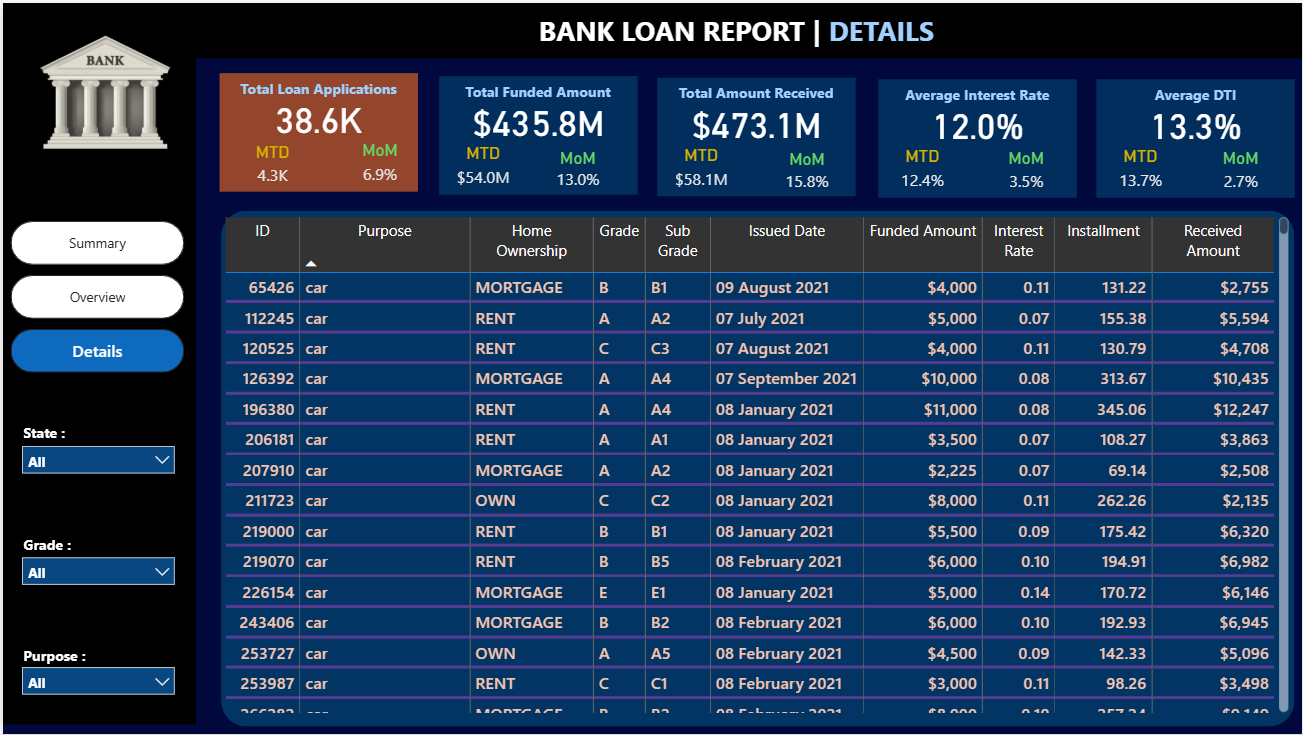

The dashboard page shown, as its layout file describes it:
{"tool":"powerbi","page":{"name":"Details","canvas":[1280,720],"ordinal":2},"visuals":[{"type":"textbox","title":"Total Loan Applications","box":[213.6,69.7,195.1,116.7],"z":0,"group":"g1"},{"type":"textbox","title":"Total Loan Applications","box":[429.3,72.3,195.1,116.7],"z":0,"group":"g2"},{"type":"textbox","title":"Total Loan Applications","box":[644.5,73.3,195.1,116.7],"z":0,"group":"g3"},{"type":"textbox","title":"Total Loan Applications","box":[1076.7,75.6,195.1,116.7],"z":0,"group":"g5"},{"type":"textbox","title":"Total Loan Applications","box":[861.4,75.8,195.1,116.7],"z":0,"group":"g4"},{"type":"shape","box":[214.3,204.7,1057,508.5],"z":0},{"type":"shape","box":[0,0,1279.3,54.4],"z":1000},{"type":"card","fields":{"Values":["financial_loan.Total Loan Application"]},"box":[213.6,87.3,195.1,51.2],"z":1000,"group":"g1"},{"type":"card","fields":{"Values":["financial_loan.Total Funded Amount"]},"box":[429.3,89.9,195.1,51.2],"z":1000,"group":"g2"},{"type":"card","fields":{"Values":["financial_loan.Total Amount"]},"box":[644.5,90.9,195.1,51.2],"z":1000,"group":"g3"},{"type":"card","fields":{"Values":["financial_loan.Average DTI"]},"box":[1076.7,93.2,195.1,51.2],"z":1000,"group":"g5"},{"type":"card","fields":{"Values":["financial_loan.Average Interest"]},"box":[861.4,93.4,195.1,51.2],"z":1000,"group":"g4"},{"type":"shape","box":[0,38.7,190.5,671.4],"z":2000},{"type":"textbox","box":[213.6,69.7,195.1,33.6],"z":2000,"group":"g1"},{"type":"textbox","box":[429.3,72.3,195.1,33.6],"z":2000,"group":"g2"},{"type":"textbox","box":[644.5,73.3,195.1,33.6],"z":2000,"group":"g3"},{"type":"textbox","box":[1076.7,75.6,195.1,33.6],"z":2000,"group":"g5"},{"type":"textbox","box":[861.4,75.8,195.1,33.6],"z":2000,"group":"g4"},{"type":"textbox","box":[522.6,3.2,458.1,72.6],"z":3000},{"type":"card","title":"MTD","fields":{"Values":["financial_loan.MTD Loan Applications"]},"box":[230.3,137.6,71.2,50],"z":3000,"group":"g1"},{"type":"card","title":"MTD","fields":{"Values":["financial_loan.MTD Funded Amount"]},"box":[435.5,138.5,74.6,51.5],"z":3000,"group":"g2"},{"type":"card","title":"MTD","fields":{"Values":["financial_loan.MTD Amount Received"]},"box":[650.7,139.5,74.6,51.5],"z":3000,"group":"g3"},{"type":"card","title":"MTD","fields":{"Values":["financial_loan.MTD Average DTI"]},"box":[1082.9,141.8,74.6,51.5],"z":3000,"group":"g5"},{"type":"card","title":"MTD","fields":{"Values":["financial_loan.MTD Average"]},"box":[867.6,142,74.6,51.5],"z":3000,"group":"g4"},{"type":"group","id":"g1","title":"Group 1","box":[213.6,69.7,195.1,117.9],"z":4000},{"type":"card","title":"MoM","fields":{"Values":["financial_loan.MoM Loan Applications"]},"box":[335.3,136.3,72.5,51.2],"z":4000,"group":"g1"},{"type":"card","title":"MoM","fields":{"Values":["financial_loan.MoM Funded Amount"]},"box":[529.6,142.2,72,46.4],"z":4000,"group":"g2"},{"type":"card","title":"MoM","fields":{"Values":["financial_loan.MoM Average DTI"]},"box":[1185.3,142.4,67.7,50],"z":4000,"group":"g5"},{"type":"card","title":"MoM","fields":{"Values":["financial_loan.MoM Average"]},"box":[969.7,143.6,75,50],"z":4000,"group":"g4"},{"type":"card","title":"MoM","fields":{"Values":["financial_loan.MoM Amount Received"]},"box":[755.1,144.1,72.5,45],"z":4000,"group":"g3"},{"type":"group","id":"g2","title":"Group 2","box":[429.3,72.3,195.1,117.7],"z":5000},{"type":"group","id":"g3","title":"Group 2","box":[644.5,73.3,195.1,117.7],"z":6000},{"type":"group","id":"g4","title":"Group 2","box":[861.4,75.8,195.1,117.8],"z":7000},{"type":"group","id":"g5","title":"Group 2","box":[1076.7,75.6,195.1,117.7],"z":8000},{"type":"tableEx","title":"LOAN STATUS","fields":{"Values":["financial_loan.id","financial_loan.purpose","financial_loan.home_ownership","financial_loan.grade","financial_loan.sub_grade","financial_loan.issue_date","financial_loan.Total Funded Amount","financial_loan.Avg. Interest Rate","Sum(financial_loan.installment)","financial_loan.Total Amount Received"]},"box":[213.8,205,1057.5,497.5],"z":9000},{"type":"slicer","fields":{"Values":["financial_loan.address_state"]},"box":[9,426.7,169.8,48],"z":9000,"group":"g8"},{"type":"image","box":[30.9,0,138.2,175.5],"z":10000},{"type":"textbox","box":[14.4,408.6,160,34.4],"z":10000,"group":"g8"},{"type":"pageNavigator","box":[8.1,214.7,171.1,150.1],"z":11000},{"type":"slicer","fields":{"Values":["financial_loan.grade"]},"box":[9,536,169.8,48],"z":11000,"group":"g6"},{"type":"group","id":"g6","title":"Group 3","box":[9,518.4,169.8,65.6],"z":12000},{"type":"textbox","box":[15.6,518.4,160,35.6],"z":12000,"group":"g6"},{"type":"group","id":"g7","title":"Group 4","box":[9,627.8,169.8,64.2],"z":13000},{"type":"slicer","fields":{"Values":["financial_loan.purpose"]},"box":[9,644,169.8,48],"z":13000,"group":"g7"},{"type":"group","id":"g8","title":"Group 5","box":[9,408.6,169.8,66.1],"z":14000},{"type":"textbox","box":[14.4,627.8,160,34.4],"z":14000,"group":"g7"}]}

Visuals, with their boxes in screenshot pixels (x1, y1, x2, y2), scaled from the page's 1280x720 canvas onto the 1303x735 screenshot:
"Total Loan Applications" textbox: 217, 71, 416, 190
"Total Loan Applications" textbox: 437, 74, 636, 193
"Total Loan Applications" textbox: 656, 75, 855, 194
"Total Loan Applications" textbox: 1096, 77, 1295, 196
"Total Loan Applications" textbox: 877, 77, 1075, 197
shape: 218, 209, 1294, 728
shape: 0, 0, 1302, 56
card - financial_loan.Total Loan Application: 217, 89, 416, 141
card - financial_loan.Total Funded Amount: 437, 92, 636, 144
card - financial_loan.Total Amount: 656, 93, 855, 145
card - financial_loan.Average DTI: 1096, 95, 1295, 147
card - financial_loan.Average Interest: 877, 95, 1075, 148
shape: 0, 40, 194, 725
textbox: 217, 71, 416, 105
textbox: 437, 74, 636, 108
textbox: 656, 75, 855, 109
textbox: 1096, 77, 1295, 111
textbox: 877, 77, 1075, 112
textbox: 532, 3, 998, 77
"MTD" card: 234, 140, 307, 192
"MTD" card: 443, 141, 519, 194
"MTD" card: 662, 142, 738, 195
"MTD" card: 1102, 145, 1178, 197
"MTD" card: 883, 145, 959, 198
"Group 1" group: 217, 71, 416, 192
"MoM" card: 341, 139, 415, 191
"MoM" card: 539, 145, 612, 193
"MoM" card: 1207, 145, 1276, 196
"MoM" card: 987, 147, 1063, 198
"MoM" card: 769, 147, 842, 193
"Group 2" group: 437, 74, 636, 194
"Group 2" group: 656, 75, 855, 195
"Group 2" group: 877, 77, 1075, 198
"Group 2" group: 1096, 77, 1295, 197
"LOAN STATUS" tableEx: 218, 209, 1294, 717
slicer - financial_loan.address_state: 9, 436, 182, 485
image: 31, 0, 172, 179
textbox: 15, 417, 178, 452
pageNavigator: 8, 219, 182, 372
slicer - financial_loan.grade: 9, 547, 182, 596
"Group 3" group: 9, 529, 182, 596
textbox: 16, 529, 179, 566
"Group 4" group: 9, 641, 182, 706
slicer - financial_loan.purpose: 9, 657, 182, 706
"Group 5" group: 9, 417, 182, 485
textbox: 15, 641, 178, 676
